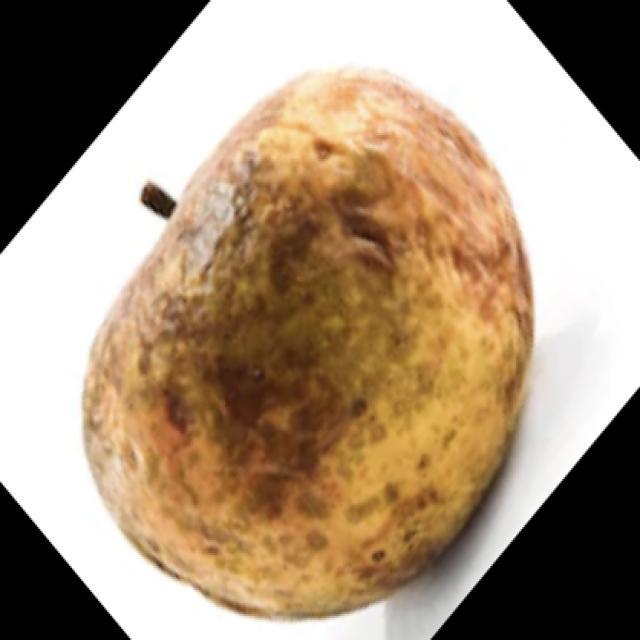Rotten: (90, 94, 532, 598)
